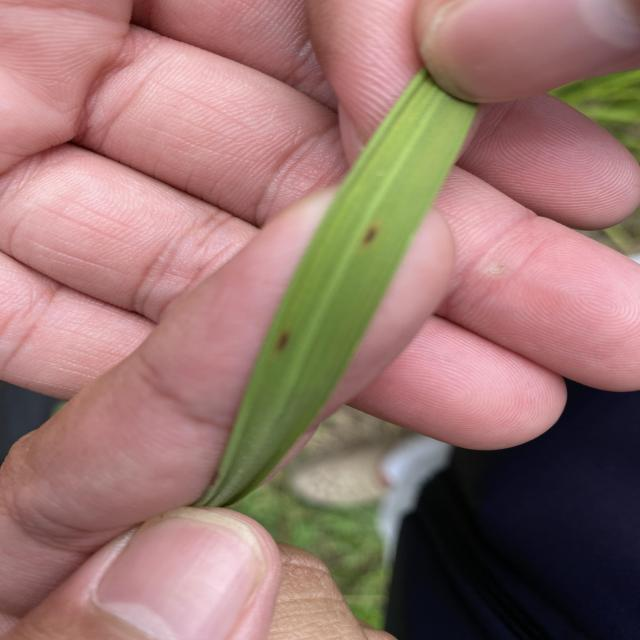Dom nau: (361, 221, 383, 247), (274, 328, 293, 356)
